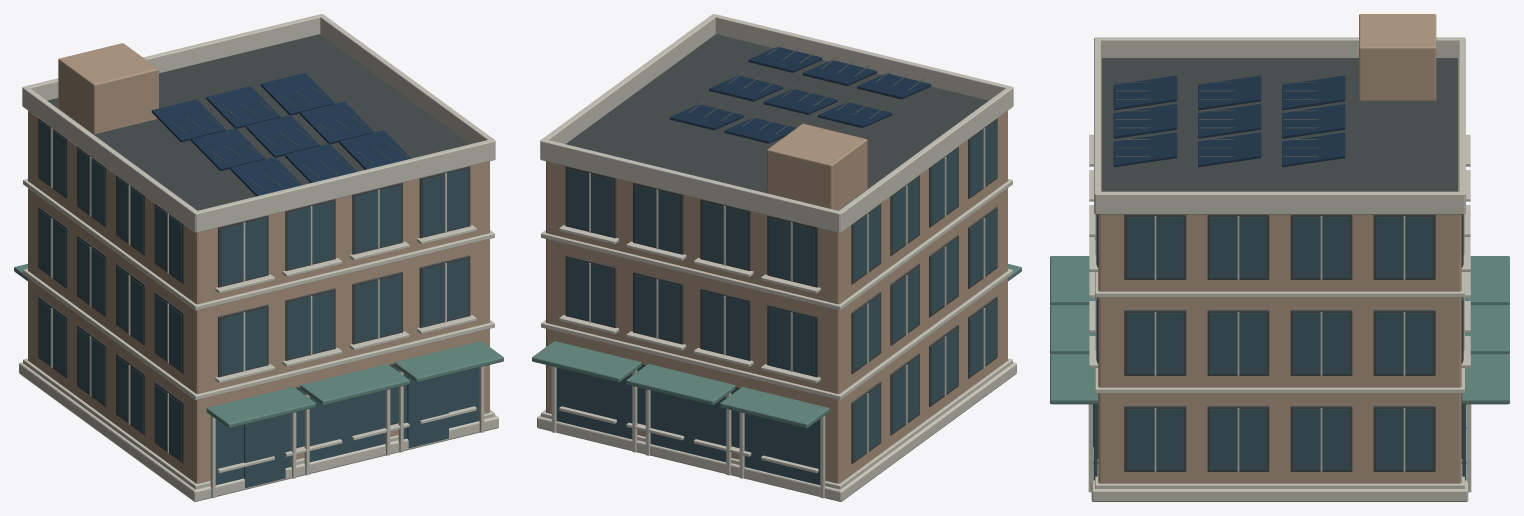
File: shops_terracotta.glb
3 views of the same model, side by side, from view 1: azimuth 30°, elevation 25°; view 2: azimuth 150°, elevation 25°; view 3: azimuth 270°, elevation 25° (orthographic). The views are drawn at different scales.
Visible parts, largest first — view 1: WindowGlassGeometry, BuildingWallGeometry, ArchitecturalTrimGeometry, RoofAndFrameGeometry, SolarCellsGeometry, AwningGeometry, RailMetalGeometry; view 2: WindowGlassGeometry, BuildingWallGeometry, ArchitecturalTrimGeometry, RoofAndFrameGeometry, SolarCellsGeometry, AwningGeometry, RailMetalGeometry; view 3: BuildingWallGeometry, WindowGlassGeometry, RoofAndFrameGeometry, ArchitecturalTrimGeometry, SolarCellsGeometry, AwningGeometry, RailMetalGeometry.
Part boxes in pixels (x1,y1,x2,y2): WindowGlassGeometry: [39, 120, 479, 487]; BuildingWallGeometry: [28, 43, 489, 483]; ArchitecturalTrimGeometry: [19, 14, 498, 501]; RoofAndFrameGeometry: [38, 34, 470, 463]; SolarCellsGeometry: [151, 73, 411, 196]; AwningGeometry: [14, 264, 503, 428]; RailMetalGeometry: [170, 87, 406, 190]; WindowGlassGeometry: [556, 120, 996, 485]; BuildingWallGeometry: [546, 111, 1007, 483]; ArchitecturalTrimGeometry: [537, 14, 1016, 501]; RoofAndFrameGeometry: [565, 34, 997, 463]; SolarCellsGeometry: [669, 47, 931, 143]; AwningGeometry: [532, 264, 1021, 428]; RailMetalGeometry: [676, 43, 924, 143]; BuildingWallGeometry: [1098, 14, 1461, 483]; WindowGlassGeometry: [1093, 214, 1466, 480]; RoofAndFrameGeometry: [1097, 58, 1462, 471]; ArchitecturalTrimGeometry: [1088, 37, 1471, 501]; SolarCellsGeometry: [1113, 75, 1345, 167]; AwningGeometry: [1050, 256, 1509, 404]; RailMetalGeometry: [1115, 82, 1318, 156].
Bounding box in the file's own units: 11.2 × 11.25 × 13.68.
